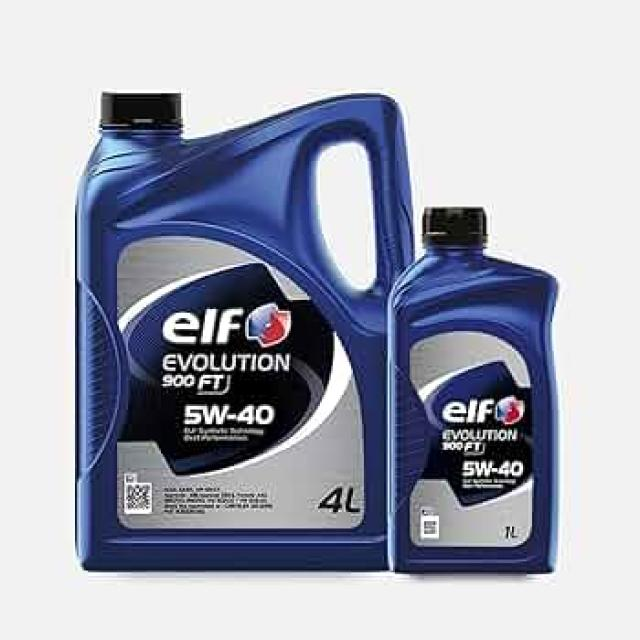motor_oil: (62, 86, 406, 584)
